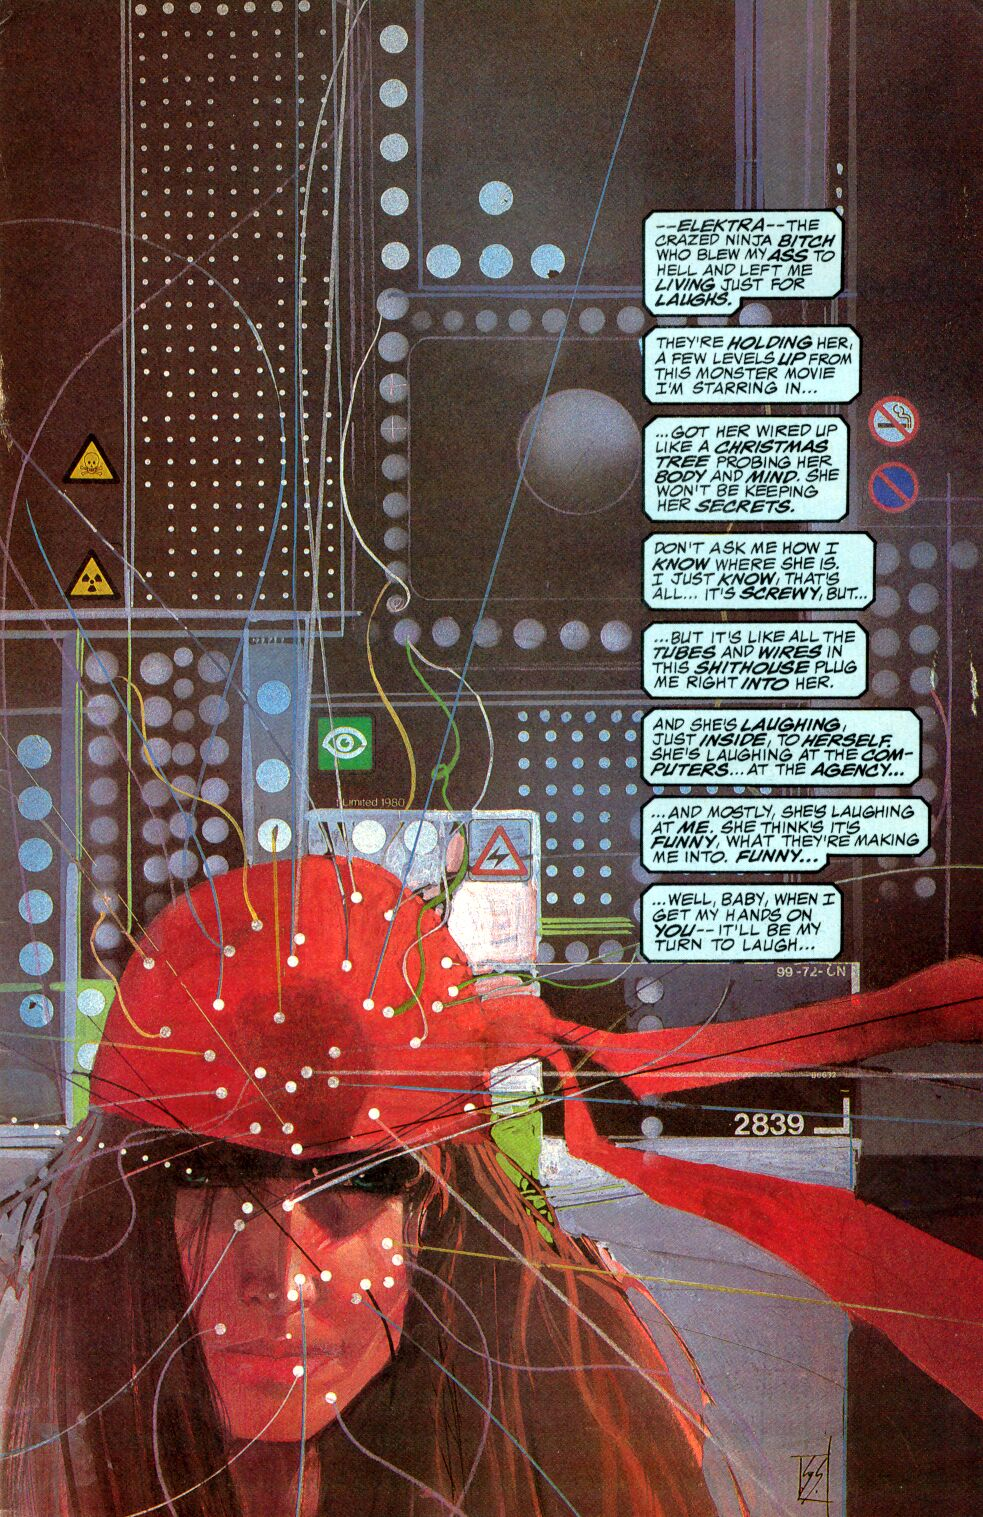Baloon: (639, 414, 853, 525), (644, 793, 932, 873), (648, 707, 918, 789), (646, 211, 846, 311), (646, 621, 871, 697), (644, 329, 862, 402), (639, 886, 843, 962), (644, 537, 876, 604)
Vignetta: (1, 1, 983, 1517)
